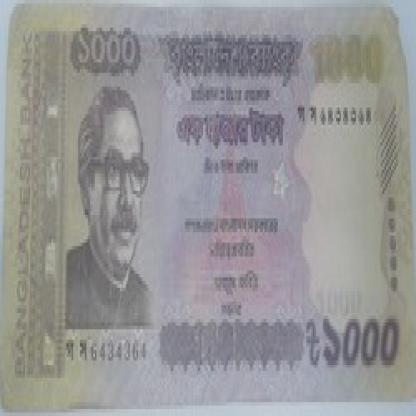One Thousand taka: (303, 309, 403, 382), (72, 24, 143, 73)
